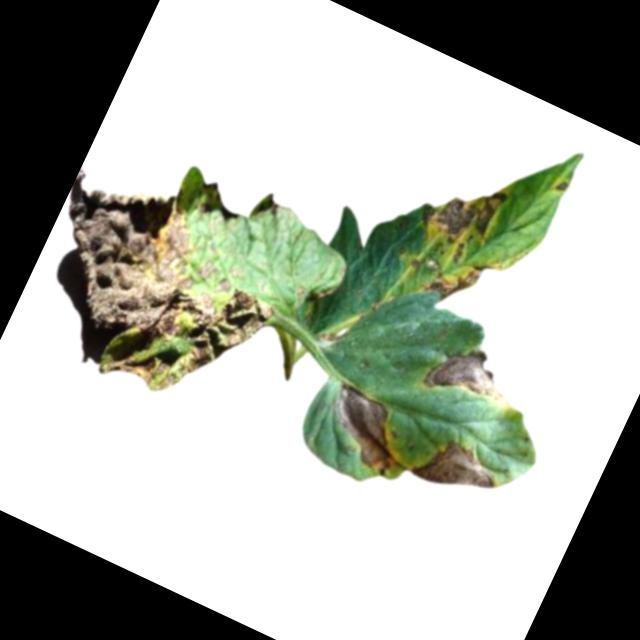Early_blight: (5, 149, 305, 429), (409, 158, 511, 264), (315, 381, 419, 477), (419, 330, 522, 421), (408, 427, 505, 508), (420, 246, 487, 311), (551, 175, 572, 195)
